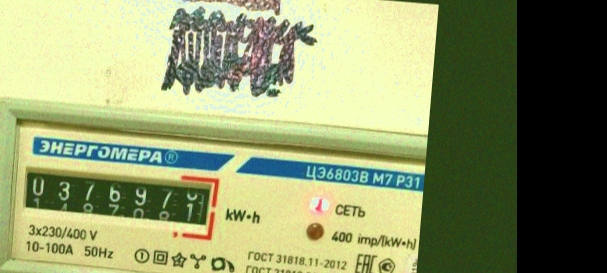0: (30, 173, 48, 195)
1: (184, 200, 197, 222)
3: (57, 177, 72, 201)
6: (109, 180, 123, 202)
7: (83, 176, 98, 201), (159, 185, 174, 209)
9: (133, 183, 148, 206)
screen: (15, 158, 223, 243)
